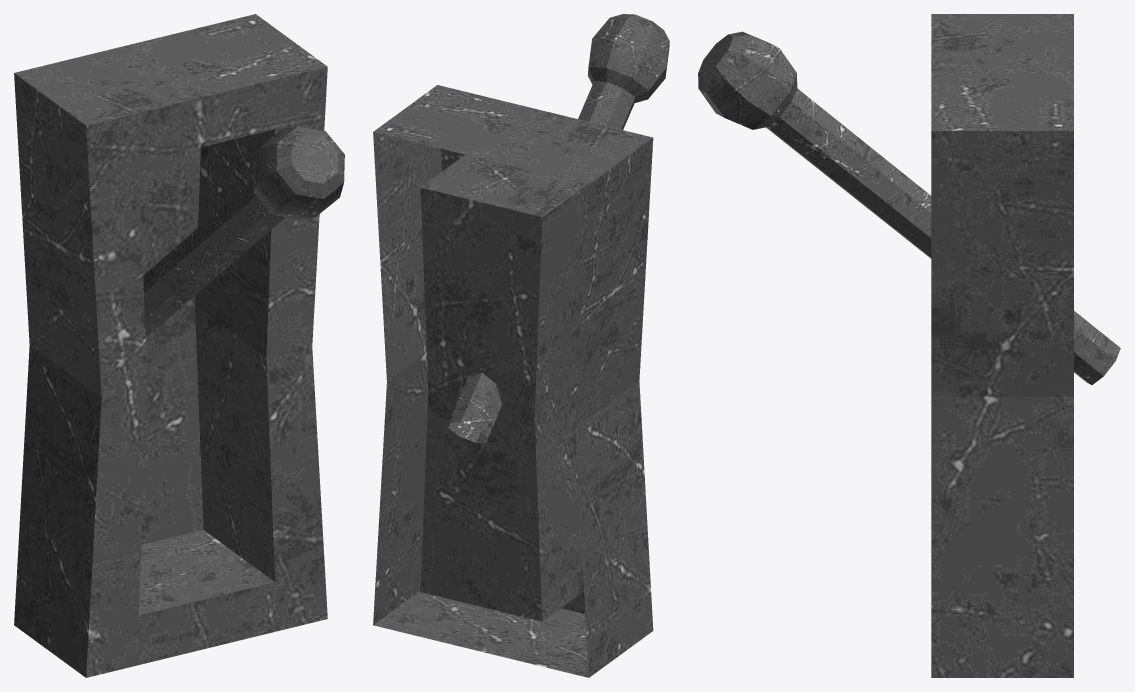
File: door_controller_1.glb
The picture shows the model from 3 angles, left to right: view 1: azimuth 30°, elevation 25°; view 2: azimuth 150°, elevation 25°; view 3: azimuth 270°, elevation 25°; orthographic projection. The views are drawn at different scales.
Visible parts, largest first — view 1: LeverSocket, Lever; view 2: LeverSocket, Lever; view 3: LeverSocket, Lever.
Part boxes in pixels (bbox=[...]): LeverSocket: bbox=[14, 14, 327, 677]; Lever: bbox=[143, 126, 344, 336]; LeverSocket: bbox=[373, 85, 653, 677]; Lever: bbox=[448, 14, 669, 443]; LeverSocket: bbox=[931, 14, 1073, 677]; Lever: bbox=[698, 31, 1120, 384].
Size of the model in its own units: 0.2523 by 0.5877 by 0.3858.
1 material, 1 textured.
